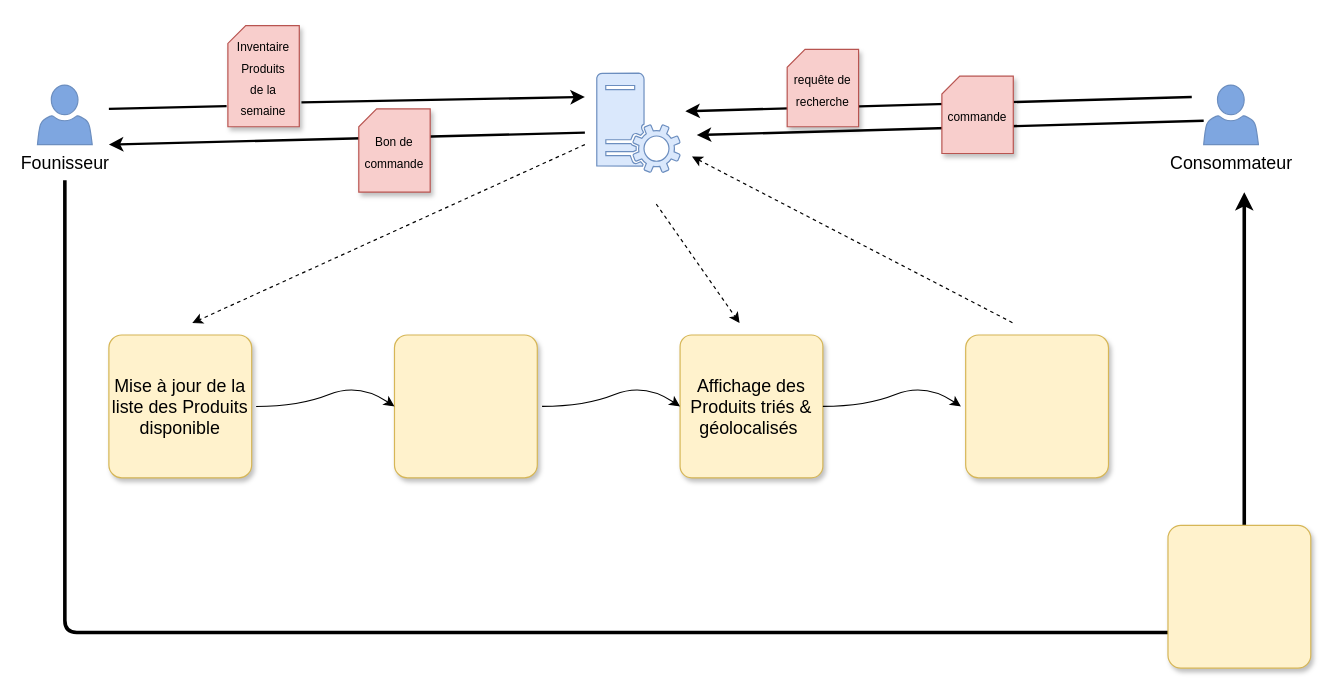
Image size: 1339x697. Some labels were removed from this diagram. The shapes that lost their labels are listed below. From the top down, each one's centre as x and y in pixels, then its label:
At point 638,122: "FOOSUS".
At point 466,407: "Réindexation de la liste des Produits".
At point 1038,407: "Traitement de la commande".
At point 1240,598: "Traitement de la livraison".
